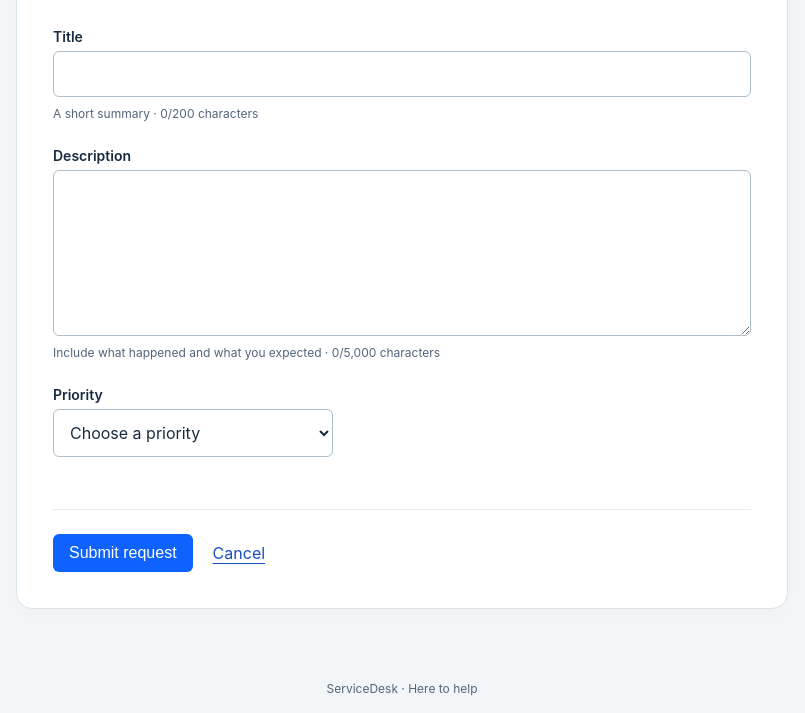
Scenario: customer request submission › requires title, description and the API priority field, focusing the first error
The width and height of the screenshot is (805, 713).
(page scrolled)
Expected: the field labelled "Title" is shown, [53,51,751,97]
What coordinates should you click on to do the following:
click the button "Submit request"
I would click on:
 (123, 553)
Its box is [53,534,193,572].
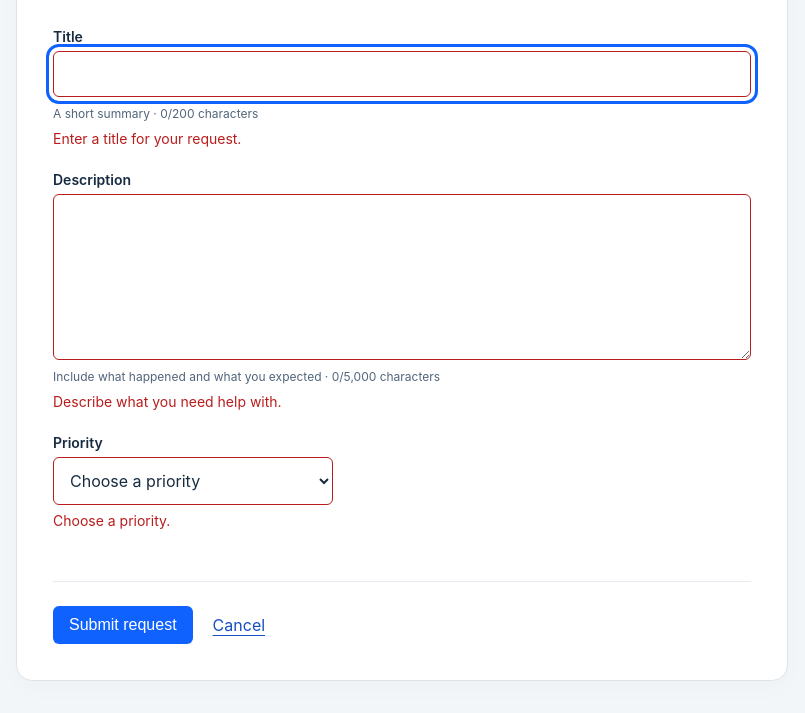
Result: the text "Enter a title for your request." is shown at [53,130,241,147]
Result: the text "Describe what you need help with." is shown at [53,393,282,410]
Result: the text "Choose a priority." is shown at [53,512,170,529]
